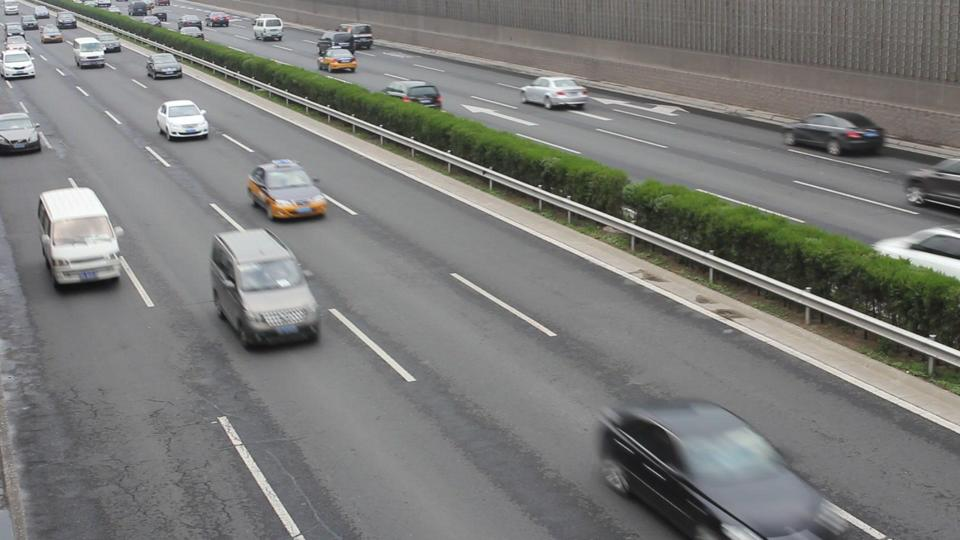Car: (600, 398, 853, 540), (247, 160, 327, 220), (781, 113, 882, 158), (519, 74, 587, 109), (376, 79, 441, 114), (158, 98, 207, 140), (1, 111, 42, 154), (1, 50, 35, 78), (317, 47, 355, 72), (147, 52, 182, 78), (94, 31, 121, 52), (180, 27, 204, 41)
Minivan: (210, 229, 317, 343), (36, 186, 123, 289), (317, 31, 353, 58), (338, 22, 374, 49), (74, 36, 104, 66), (253, 16, 283, 41)
